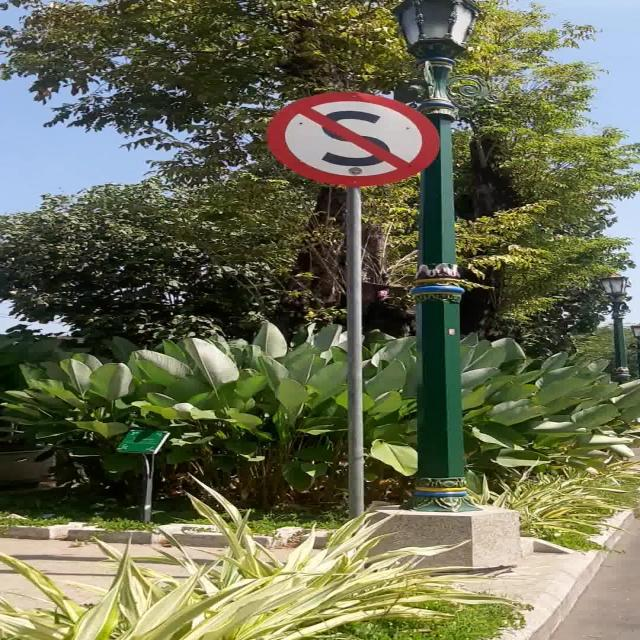Dilarang Berhenti: (267, 91, 439, 186)
